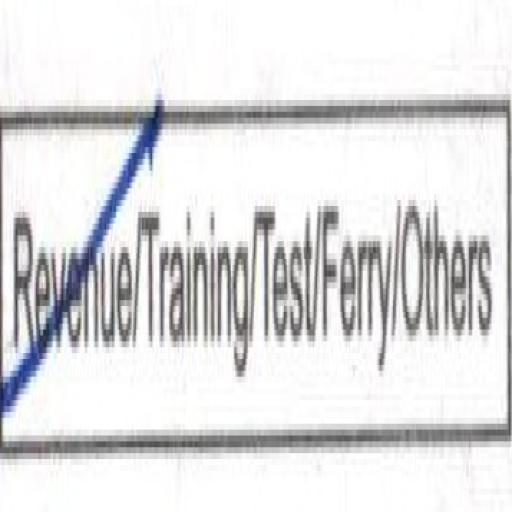check: (0, 40, 138, 512)
